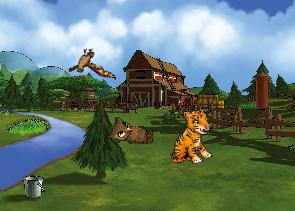eagle: (65, 44, 116, 86)
owl: (107, 116, 154, 144)
tiger: (163, 107, 217, 168)
